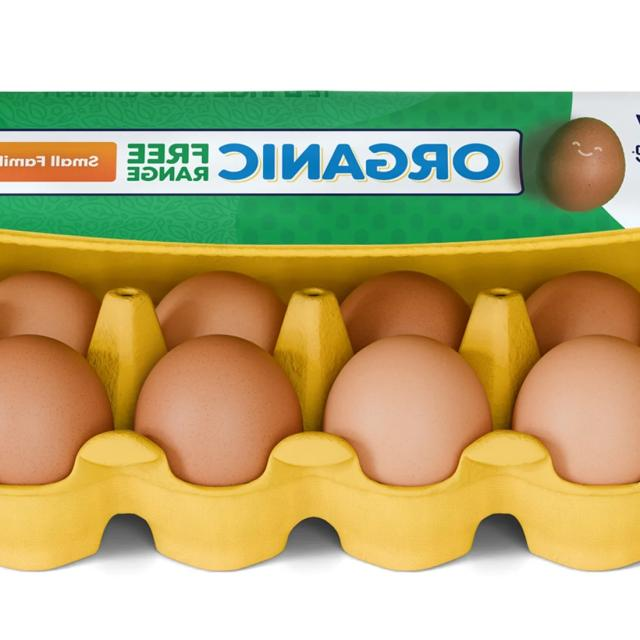eggs: (133, 334, 304, 487), (322, 336, 494, 487), (511, 336, 640, 485), (0, 333, 114, 485), (155, 270, 287, 356), (340, 271, 472, 354), (525, 270, 640, 358), (0, 270, 102, 358)
